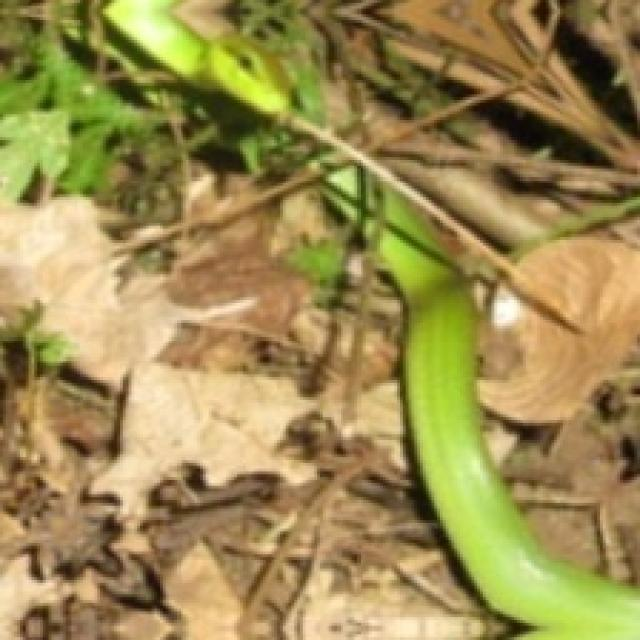red-tailed green ratsnake: (378, 188, 640, 640)
